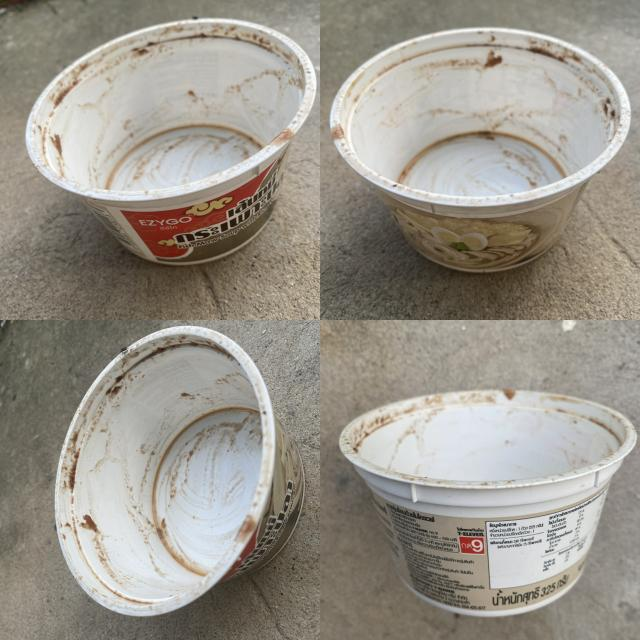Single-Use-Plastic: (330, 28, 630, 272), (55, 326, 305, 616), (28, 19, 316, 265), (340, 390, 636, 616)
